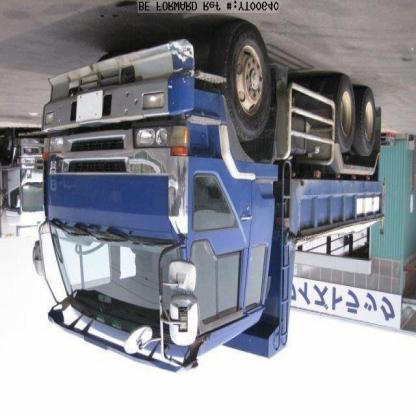truck: (35, 23, 387, 378)
